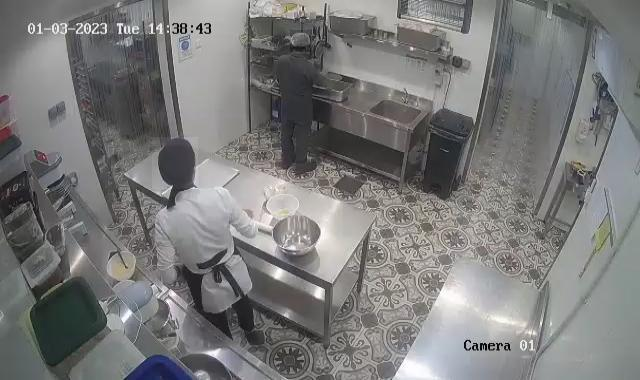gloves: (152, 137, 198, 189), (290, 30, 311, 52)
